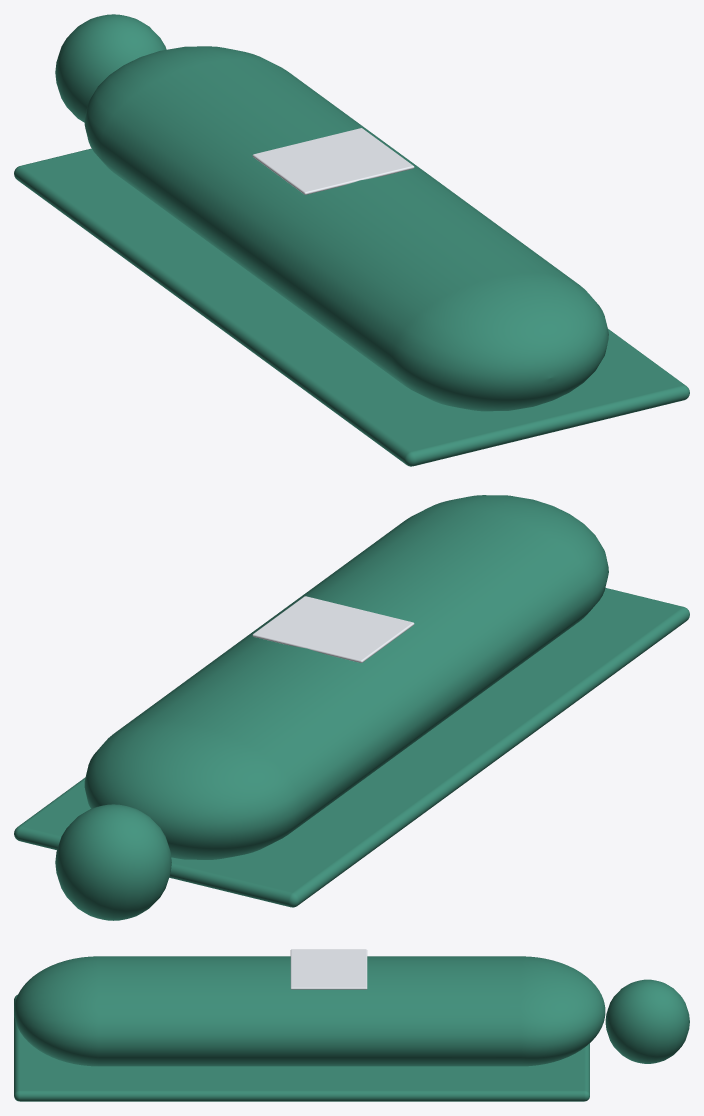
The model's file is draped-patient.glb.
3 renders of one model, top to bottom at view 1: azimuth 30°, elevation 25°; view 2: azimuth 150°, elevation 25°; view 3: azimuth 270°, elevation 25°, orthographic. The views are drawn at different scales.
Visible parts, largest first — view 1: draped-patient; view 2: draped-patient; view 3: draped-patient.
Part boxes in pixels (x1,y1,x2,y2): draped-patient: (14, 14, 689, 466); draped-patient: (14, 495, 689, 920); draped-patient: (14, 949, 689, 1101).
Bounding box in the file's own units: 0.62 × 0.263 × 1.76.
